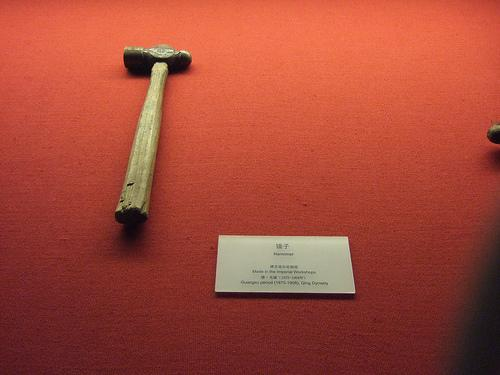hammer: (111, 40, 195, 224)
